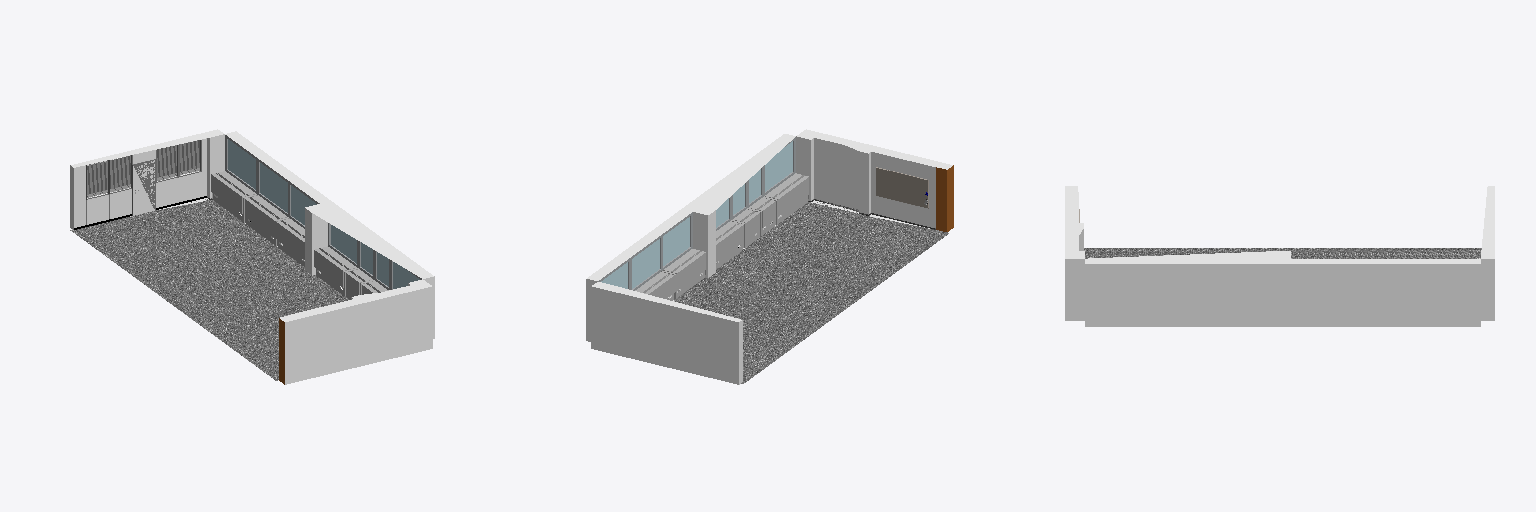
The picture shows the model from 3 angles: view 1: azimuth 30°, elevation 25°; view 2: azimuth 150°, elevation 25°; view 3: azimuth 270°, elevation 25°; orthographic projection.
Visible parts, largest first — view 1: Mesh229 Model; view 2: Mesh229 Model; view 3: Mesh229 Model.
Part boxes in pixels (x1,y1,x2,y2): Mesh229 Model: (70,129,434,384); Mesh229 Model: (586,129,953,384); Mesh229 Model: (1065,186,1494,326).
Size of the model in its own units: 7.02 by 2.59 by 16.11.
26 materials, 6 textured.